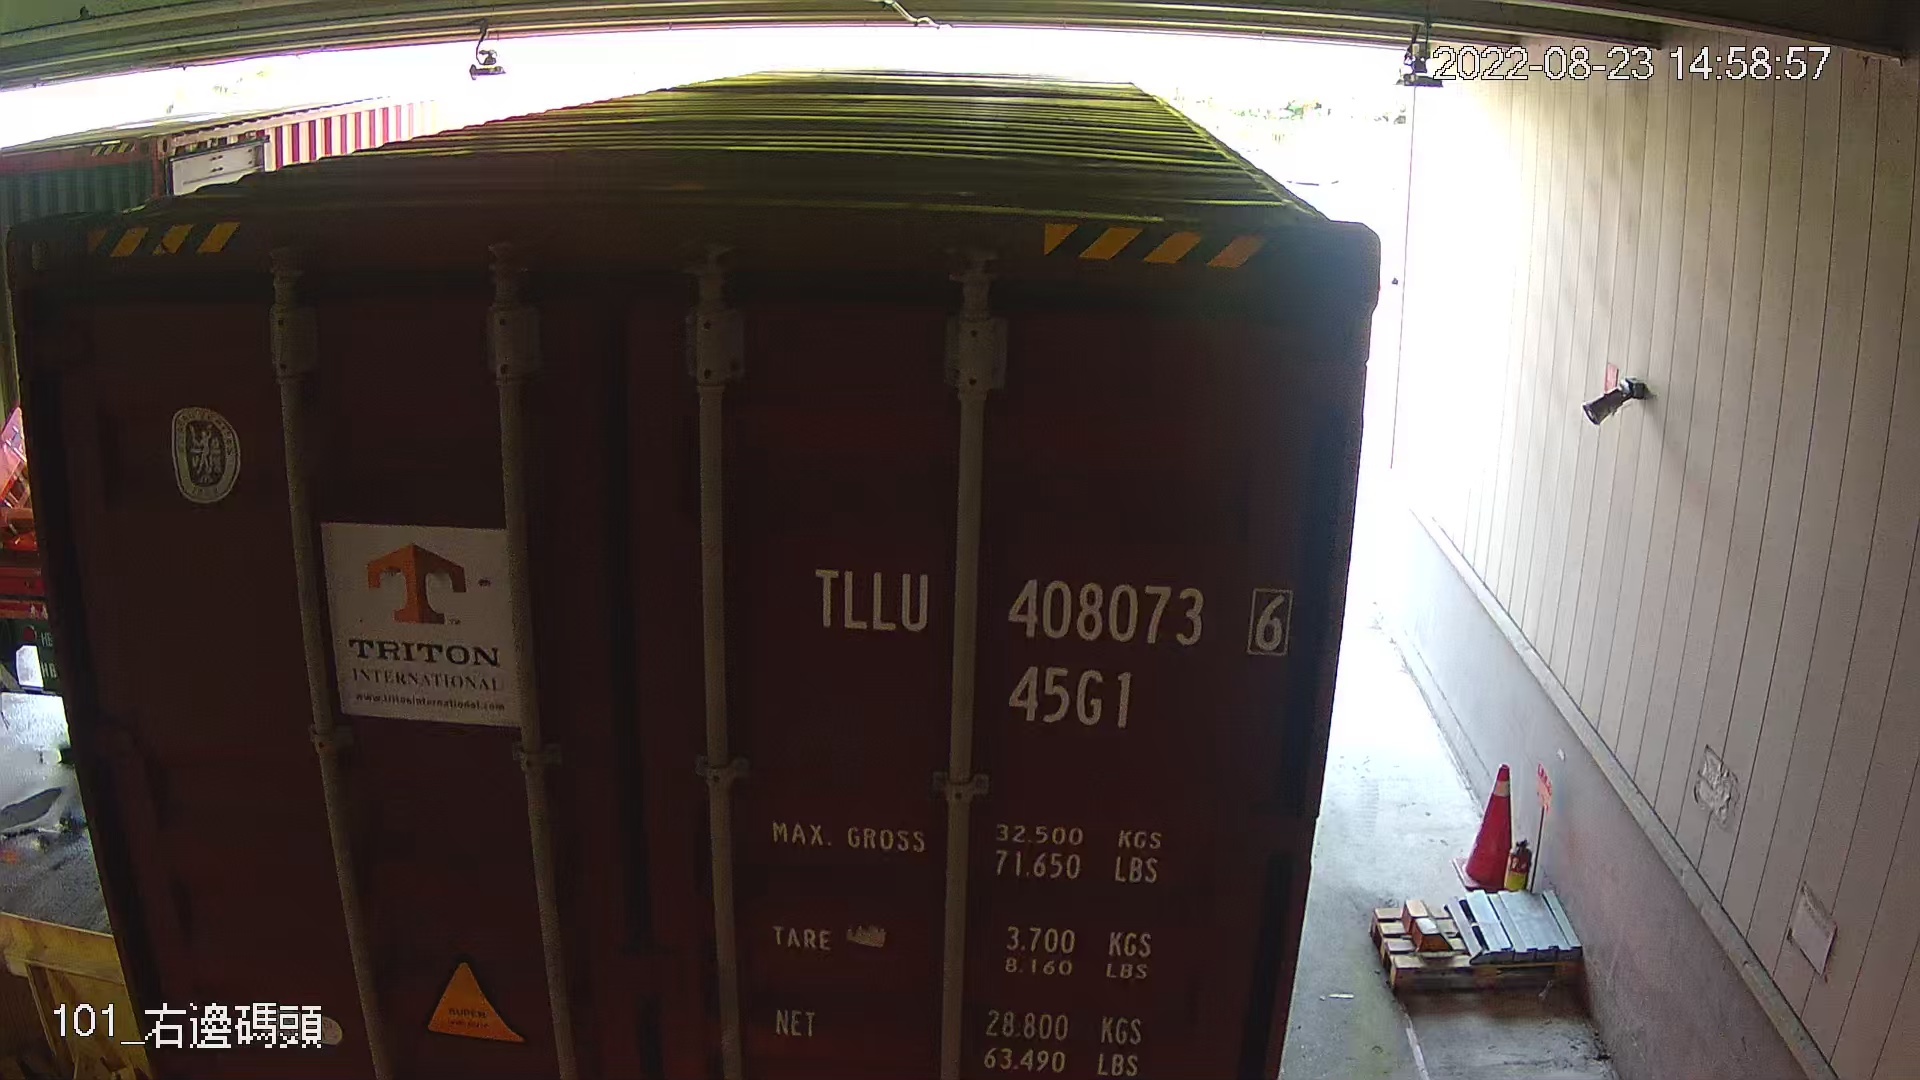container: (793, 535, 1305, 738)
